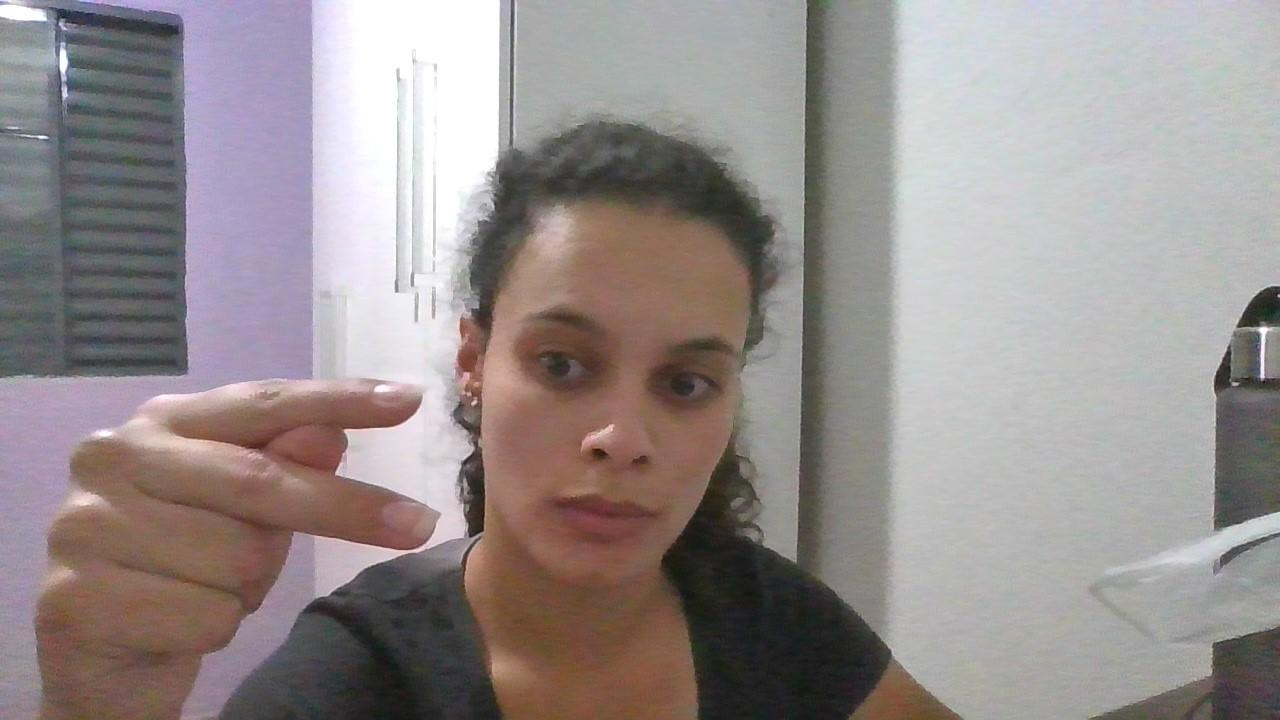P: (36, 364, 454, 676)
